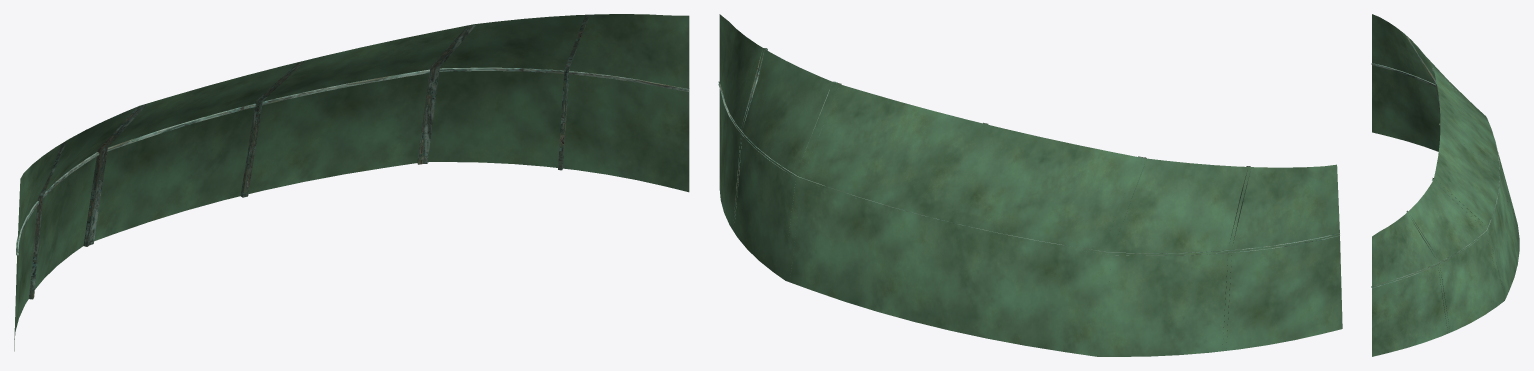
File: Ceiling_BridgeCurved.FBX
3 views of the same model, side by side, from view 1: azimuth 30°, elevation 25°; view 2: azimuth 150°, elevation 25°; view 3: azimuth 270°, elevation 25° (orthographic). The views are drawn at different scales.
Parts seen in each view (by area): view 1: Object009; view 2: Object009; view 3: Object009.
Boxes of the visible parts, box(x1,y1,x2,y2) form: Object009: box(14, 14, 689, 351); Object009: box(718, 14, 1342, 356); Object009: box(1371, 14, 1519, 356).
Size of the model in its own units: 801 by 200 by 223.
